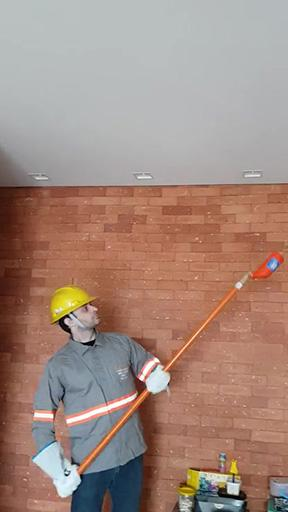Detector_Tensao_Contato: (246, 247, 288, 280)
Vara_Manobra: (61, 276, 248, 494)
